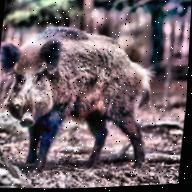boar: (0, 9, 171, 174)
